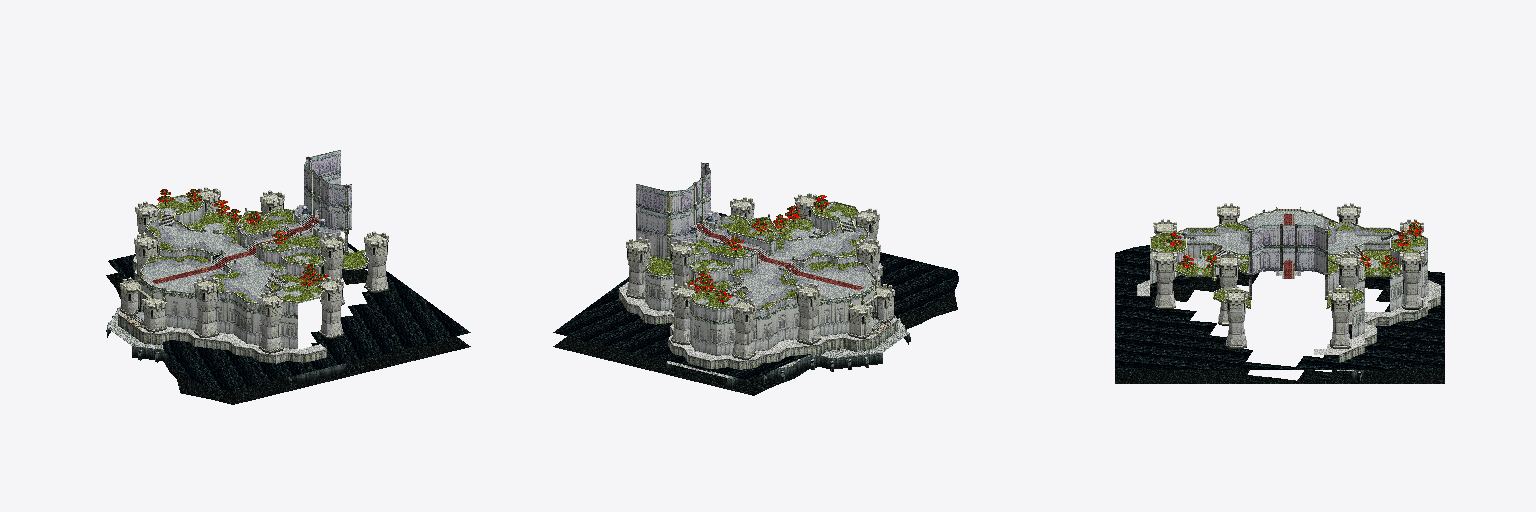
The picture shows the model from 3 angles: view 1: azimuth 30°, elevation 25°; view 2: azimuth 150°, elevation 25°; view 3: azimuth 270°, elevation 25°; orthographic projection.
Visible parts, largest first — view 1: Object.005; view 2: Object.005; view 3: Object.005.
Part boxes in pixels (left/top/right/bottom): Object.005: left=106, top=150, right=470, bottom=404; Object.005: left=553, top=162, right=958, bottom=395; Object.005: left=1115, top=203, right=1444, bottom=383.
Bounding box in the file's own units: 97.01 × 44.05 × 104.
23 materials, 23 textured.